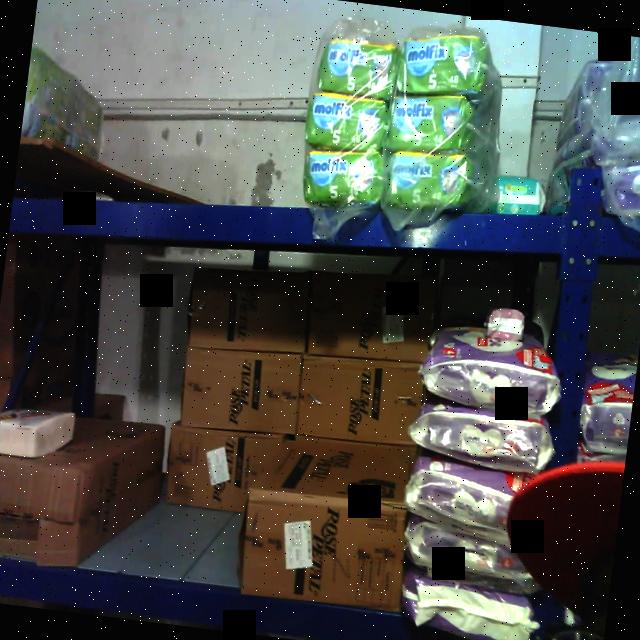box: (233, 484, 413, 614), (301, 260, 441, 372), (183, 260, 316, 358), (292, 354, 428, 448), (176, 344, 306, 440), (160, 422, 260, 512)
